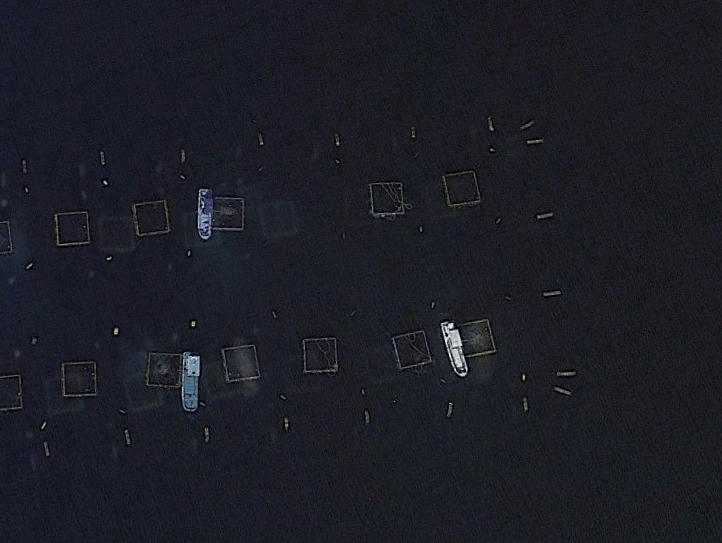ship: (438, 316, 471, 378), (180, 346, 202, 414), (194, 183, 216, 244)
square: (440, 164, 490, 214), (215, 339, 265, 389), (388, 320, 437, 371), (49, 205, 98, 255), (364, 174, 411, 224), (451, 312, 498, 362), (56, 355, 105, 402), (139, 346, 187, 393), (203, 192, 251, 238), (299, 331, 345, 378), (128, 196, 172, 244)
